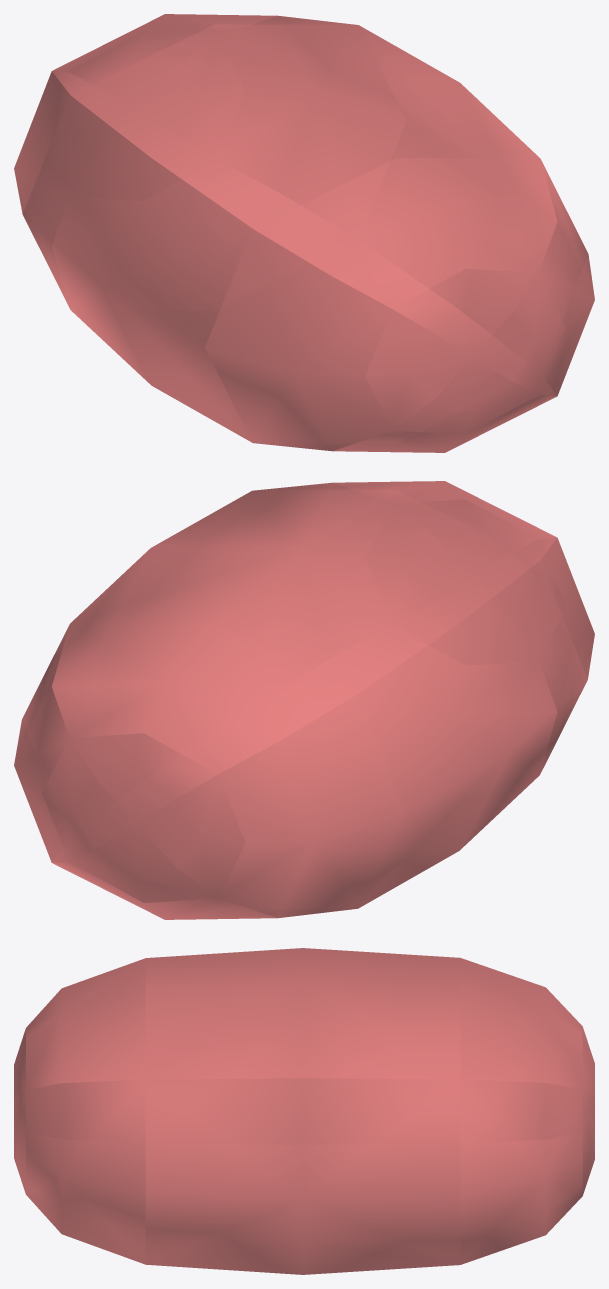
Rendered from redGem.fbx.
3 renders of one model, top to bottom at view 1: azimuth 30°, elevation 25°; view 2: azimuth 150°, elevation 25°; view 3: azimuth 270°, elevation 25°, orthographic. The views are drawn at different scales.
Parts seen in each view (by area): view 1: mesh03; view 2: mesh03; view 3: mesh03.
Part boxes in pixels (bbox=[...]): mesh03: bbox=[14, 14, 594, 452]; mesh03: bbox=[14, 481, 594, 919]; mesh03: bbox=[14, 948, 594, 1274].
Size of the model in its own units: 21.1 by 14.87 by 29.84.
